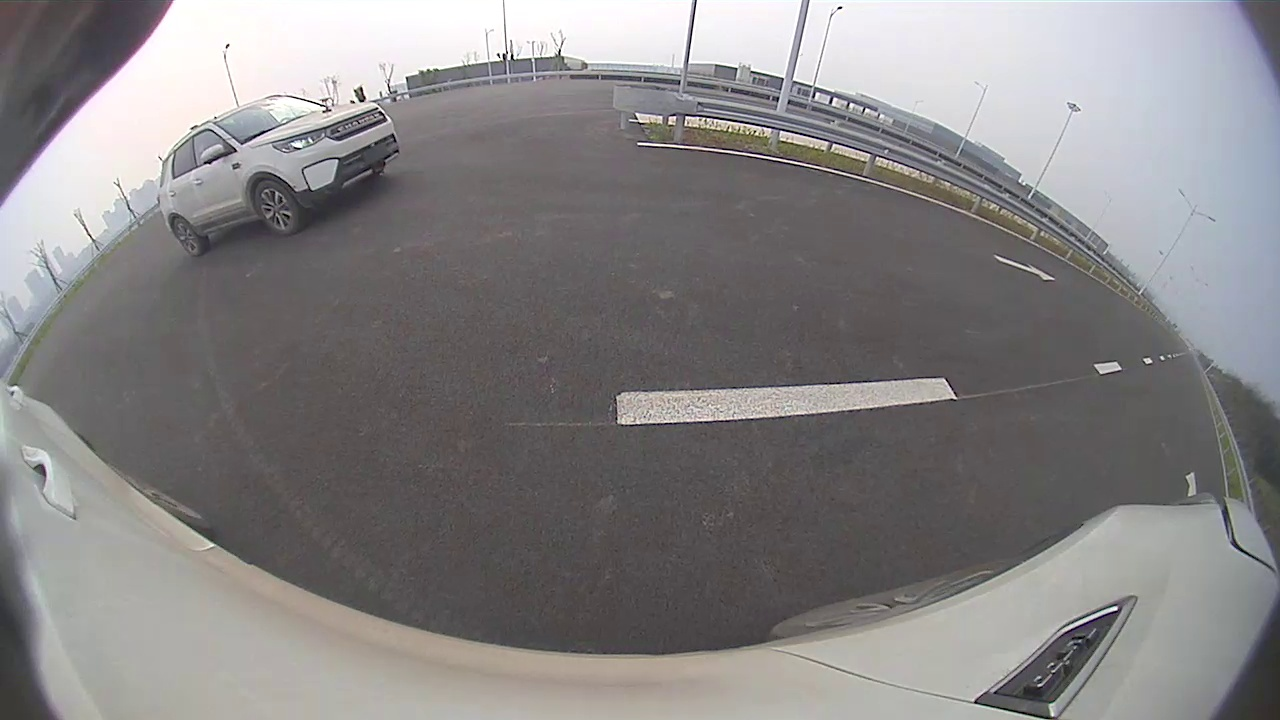car: (159, 95, 400, 257)
front: (254, 181, 303, 236)
rear: (170, 219, 204, 258)
